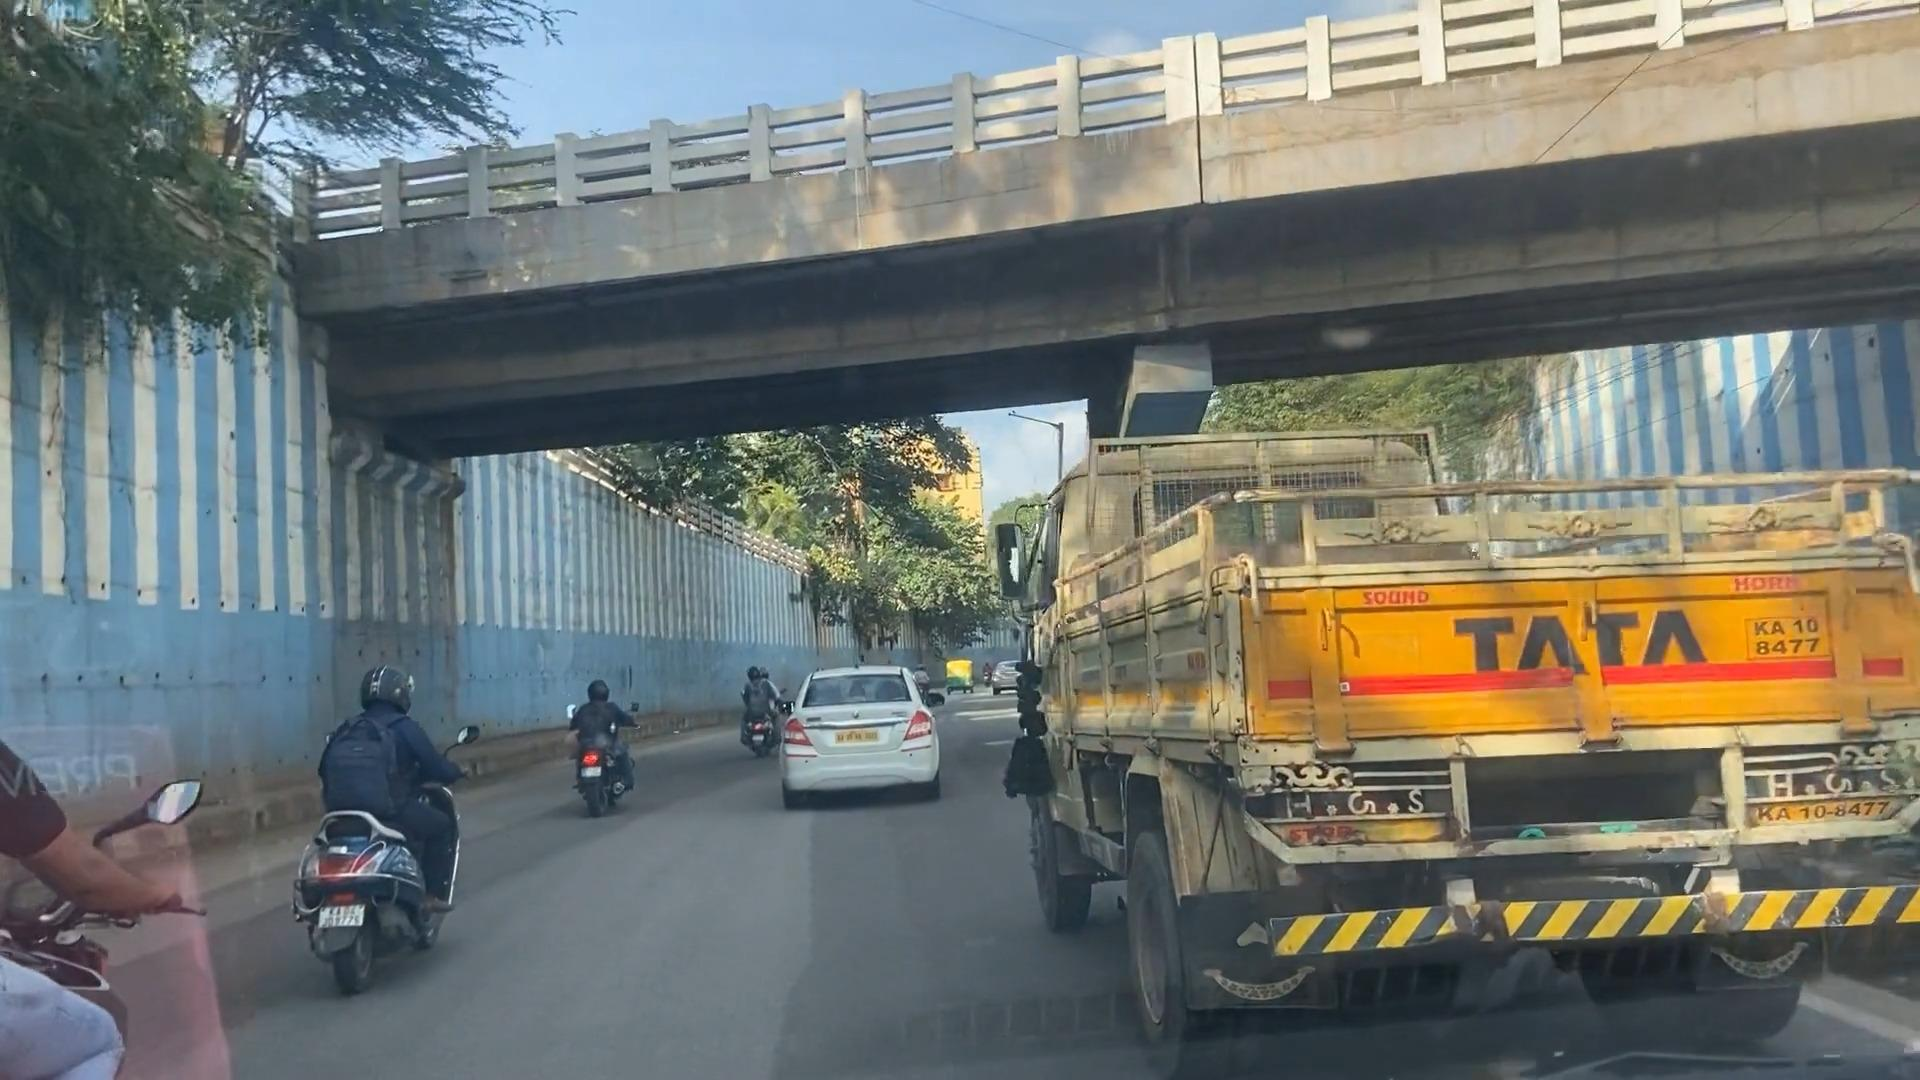HMV: (969, 429, 1898, 1047)
LMV: (286, 670, 468, 1004), (785, 653, 931, 802)
